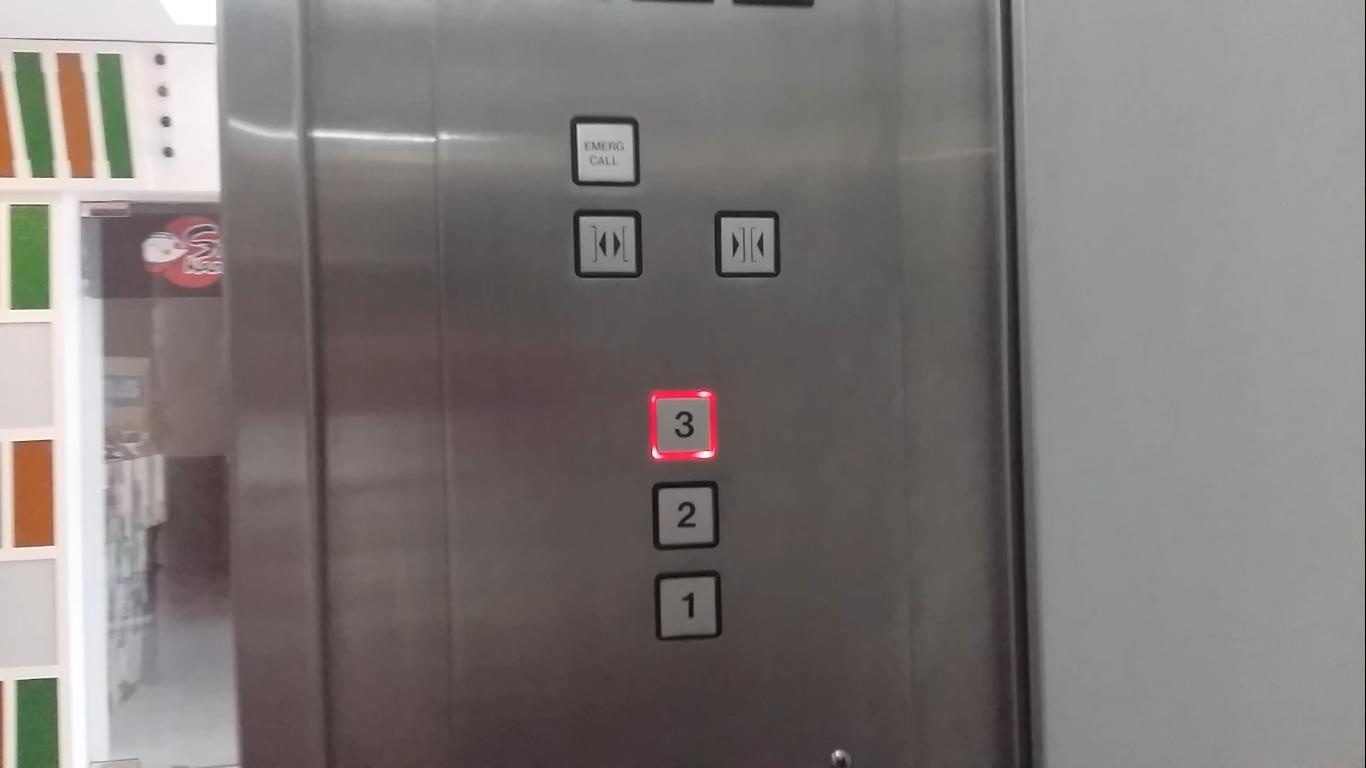1: (649, 569, 723, 642)
2: (648, 477, 722, 555)
3: (648, 388, 722, 464)
close: (711, 206, 782, 279)
open: (570, 209, 648, 279)
text: (569, 115, 641, 190)
